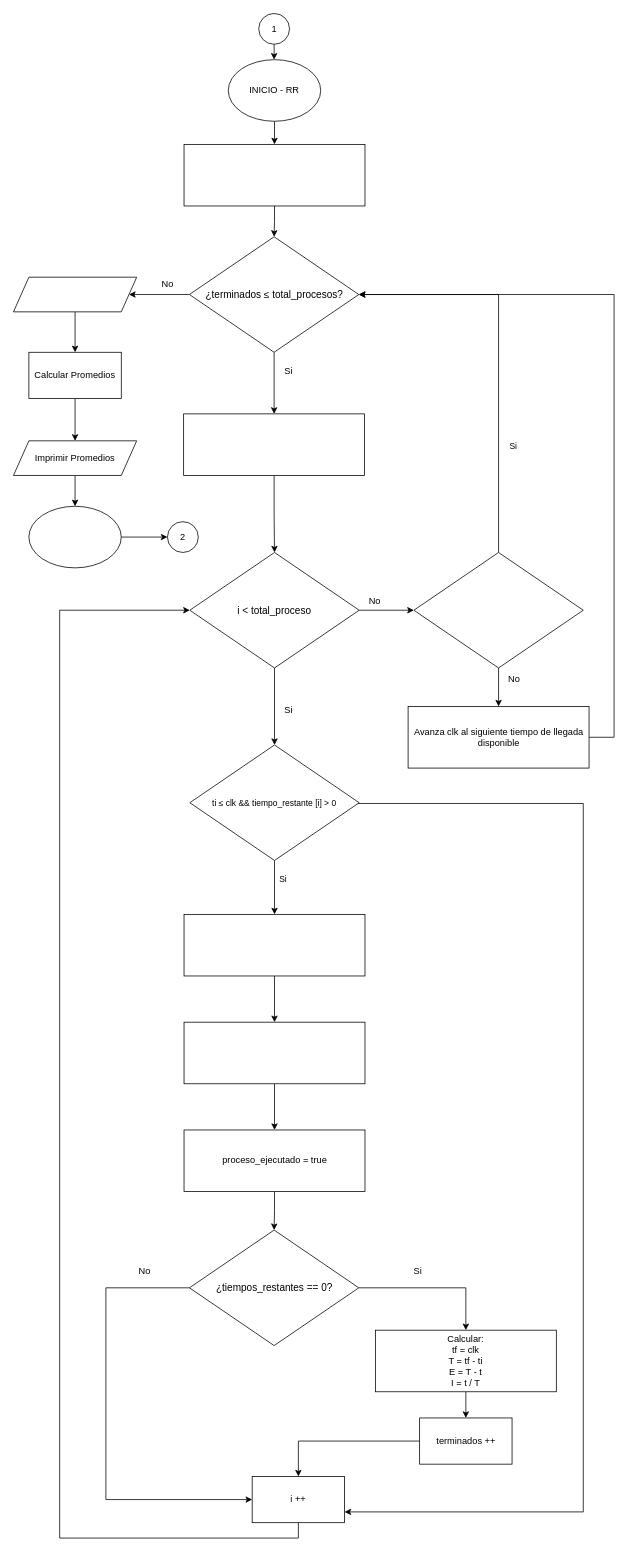
Some shapes in this 634 by 1558 pixel diagram are drawn without their labels. The shapes that lost their labels are listed below. From the top down, each one's centre as x and y in pixels, then its label:
At (274,175): "clk = 0, terminados = 0 tiempos_restantes = [t de cada proceso]".
At (75,294): "Imprimir procesos con tf, T, E, I".
At (274,444): "proceso_ejecutado = false i = 0".
At (74,537): "FIN - RR".
At (498,610): "Procesados ejecutado == true".
At (274,945): "Ejecutar quantum: tiempo_ejec = minqantum, resto".
At (274,1052): "Actualizar: tiempo_restante [i] -= tiempo_ejec clk += tiempo".
